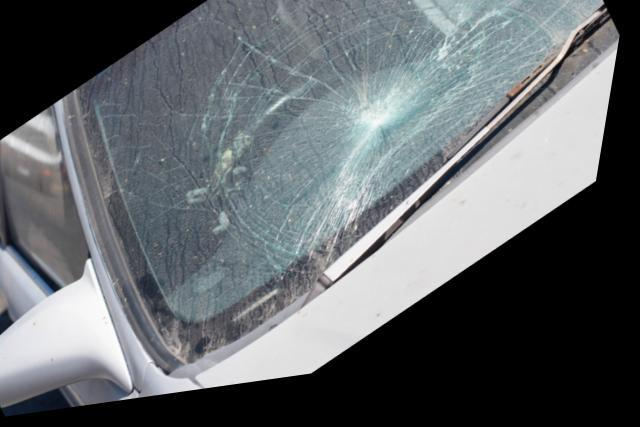glass shatter: (79, 0, 624, 372)
